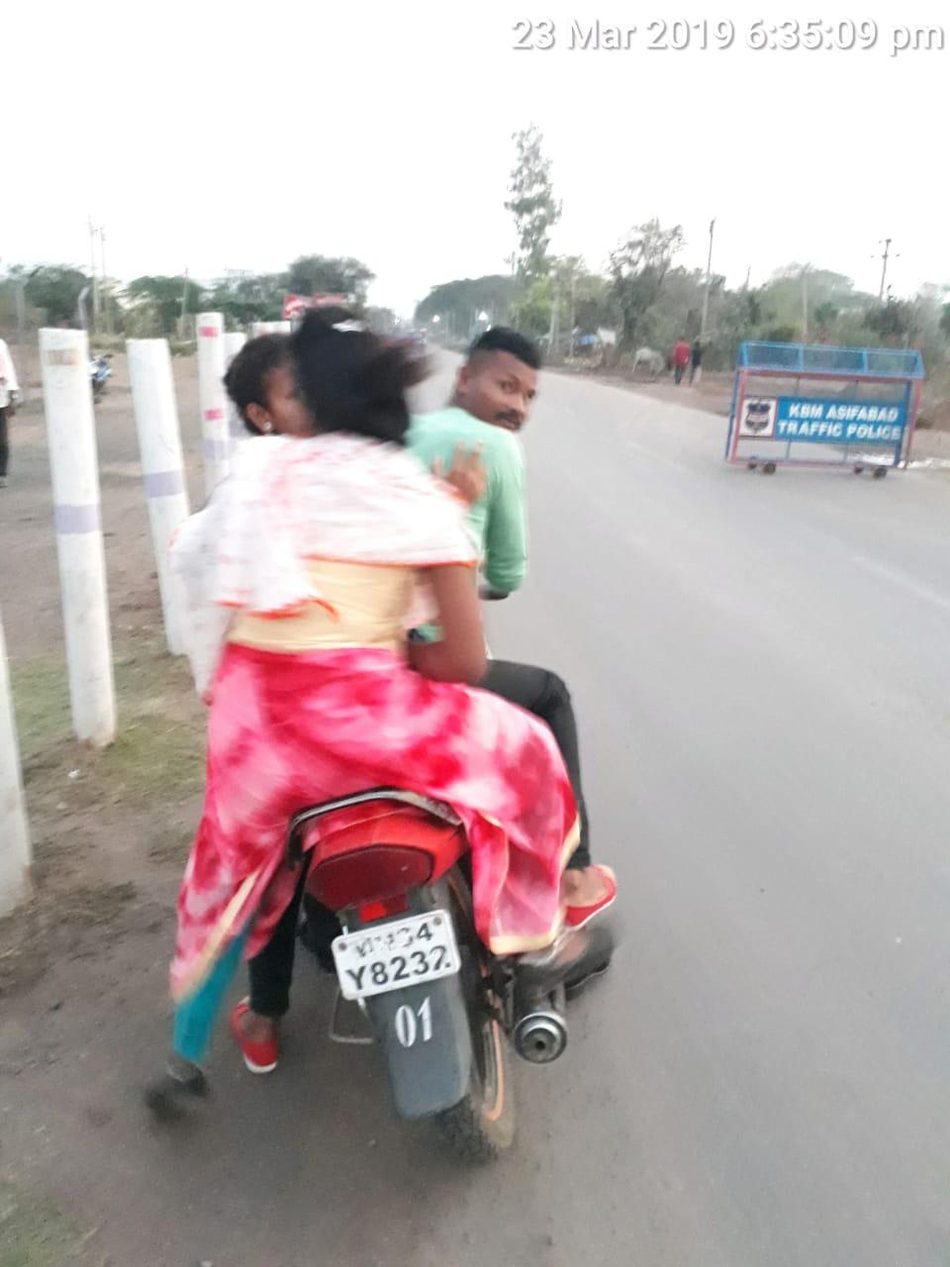plate: (308, 913, 481, 1004)
